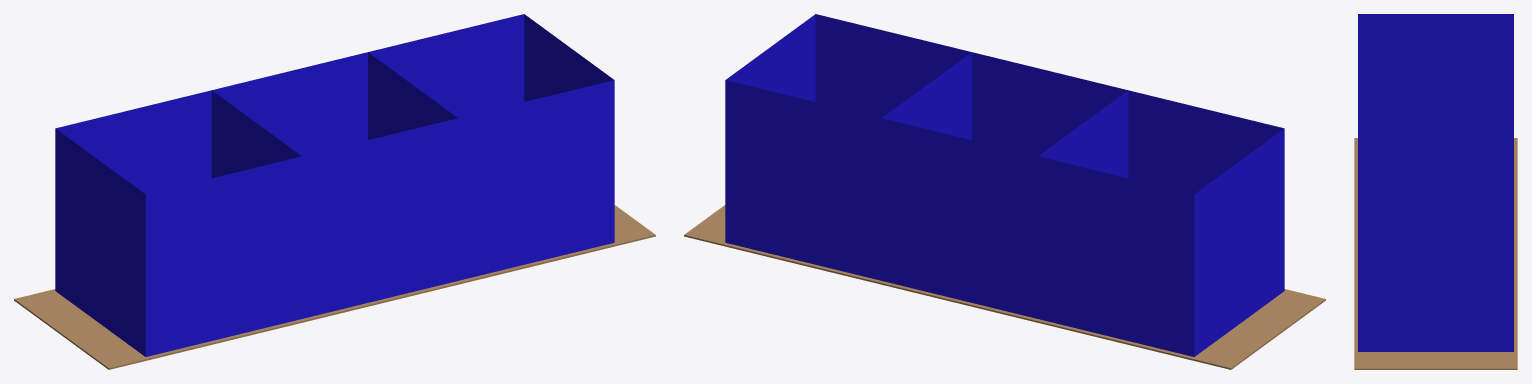
3 views of the same model, side by side, from view 1: azimuth 30°, elevation 25°; view 2: azimuth 150°, elevation 25°; view 3: azimuth 270°, elevation 25° (orthographic). The views are drawn at different scales.
Visible parts, largest first — view 1: Cube.001, Cube.002, Cube, Cube.003; view 2: Cube.001, Cube.002, Cube, Cube.003; view 3: Cube.002, Cube.001, Cube, Cube.003.
Boxes of the visible parts, bbox=[...] form: Cube.001: bbox=[55, 90, 301, 356]; Cube.002: bbox=[368, 14, 614, 280]; Cube: bbox=[211, 52, 458, 318]; Cube.003: bbox=[14, 205, 655, 369]; Cube.001: bbox=[1038, 90, 1284, 356]; Cube.002: bbox=[725, 14, 971, 280]; Cube: bbox=[881, 52, 1128, 318]; Cube.003: bbox=[684, 205, 1325, 369]; Cube.002: bbox=[1358, 145, 1513, 351]; Cube.001: bbox=[1358, 14, 1513, 145]; Cube: bbox=[1358, 80, 1513, 211]; Cube.003: bbox=[1354, 138, 1517, 369].
Size of the model in its own units: 7 by 2.1 by 2.01.
